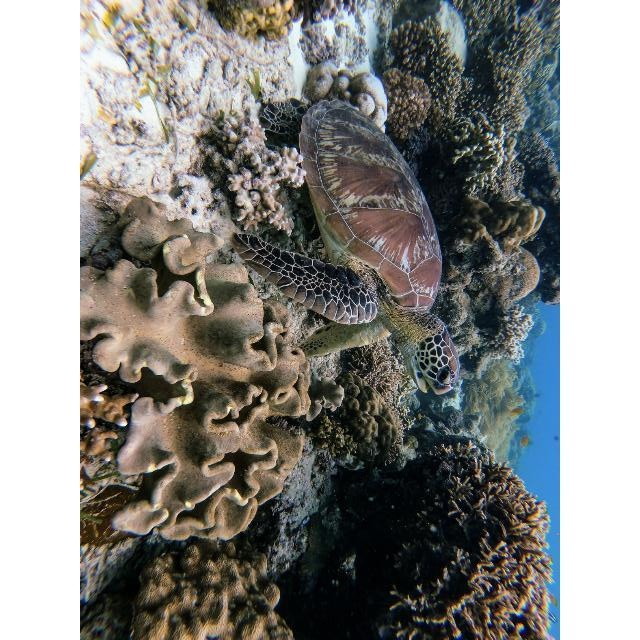turtle: (229, 98, 459, 394)
